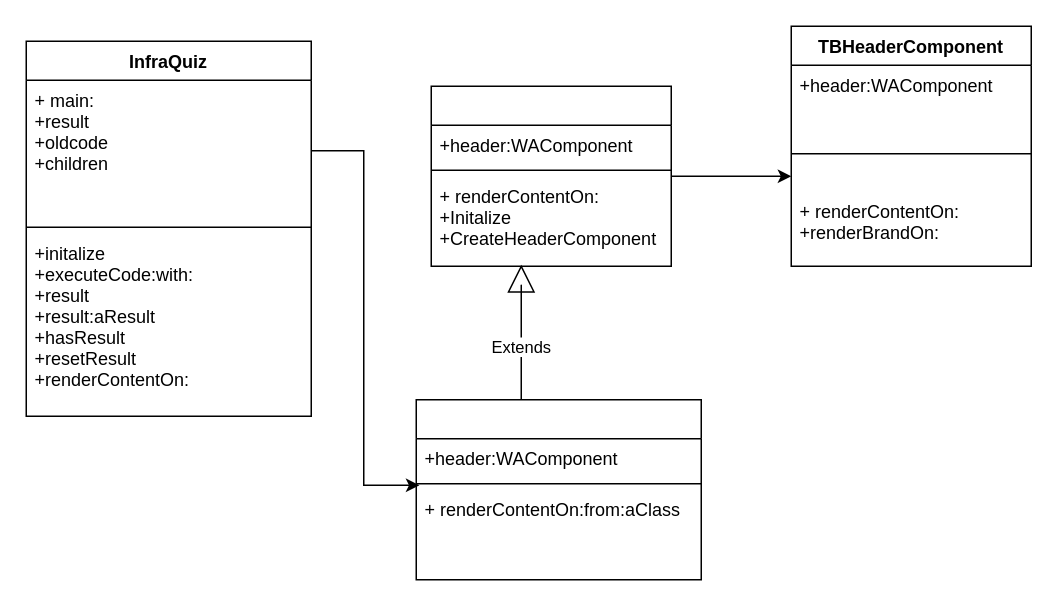
This 1058x611 diagram has some shape labels left out. The box of each missing label's shape, as (x1, y1, x2, y2) in pixels:
TBCodeComponent: (415, 398, 701, 580)
TBScreenComponent: (430, 85, 671, 266)
